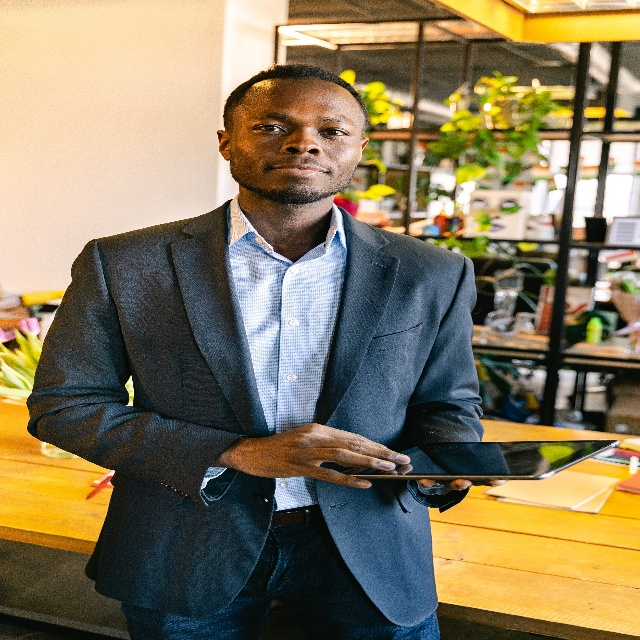Sin_guantes: (237, 422, 410, 489), (418, 477, 506, 491)
